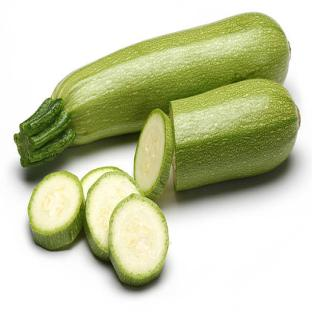Zucchini: (15, 13, 290, 166), (170, 79, 299, 190), (110, 195, 168, 285), (84, 171, 140, 260), (29, 172, 84, 250), (134, 109, 173, 200), (81, 167, 120, 198)
